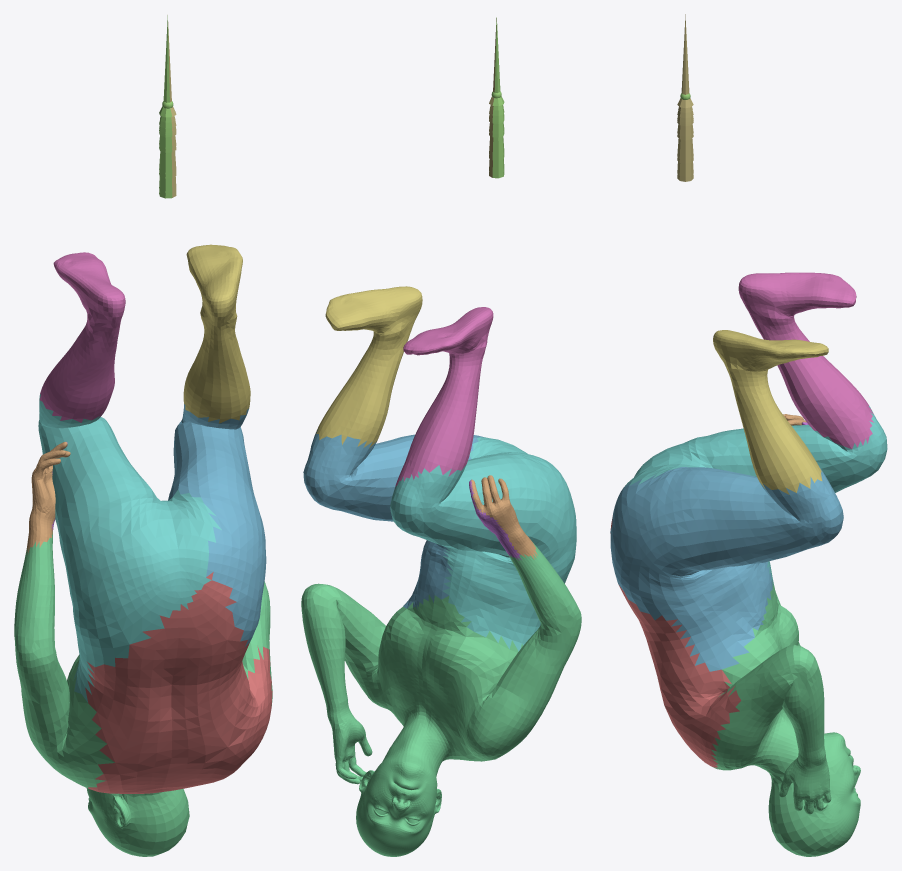
File: person_0.glb
The picture shows the model from 3 angles, left to right: view 1: azimuth 30°, elevation 25°; view 2: azimuth 150°, elevation 25°; view 3: azimuth 270°, elevation 25°; orthographic projection. The views are drawn at different scales.
Visible parts, largest first — view 1: Segment_06, Segment_00, Segment_02, Segment_01, Segment_07, Segment_03, Segment_05, Segment_08, Segment_19; view 2: Segment_02, Segment_06, Segment_03, Segment_01, Segment_07, Segment_05, Segment_08, Segment_04; view 3: Segment_01, Segment_02, Segment_07, Segment_03, Segment_00, Segment_06, Segment_19.
Part boxes in pixels (x1,y1,x2,y2): Segment_06: (38,394,221,702); Segment_00: (85,572,272,793); Segment_02: (14,531,272,856); Segment_01: (168,404,266,646); Segment_07: (40,252,125,422); Segment_03: (183,244,250,423); Segment_05: (26,441,70,554); Segment_08: (159,15,173,198); Segment_19: (168,22,176,197); Segment_02: (301,543,581,856); Segment_06: (390,437,576,651); Segment_03: (315,286,422,448); Segment_01: (303,429,483,609); Segment_07: (394,307,493,488); Segment_05: (471,475,537,559); Segment_08: (491,17,504,178); Segment_04: (469,479,521,560); Segment_01: (610,465,843,671); Segment_02: (711,581,860,856); Segment_07: (738,272,874,449); Segment_03: (713,330,828,494); Segment_00: (610,515,741,768); Segment_06: (623,406,887,585); Segment_19: (677,14,693,181).
Bounding box in the file's own units: 0.5919 × 1.84 × 0.5634.
